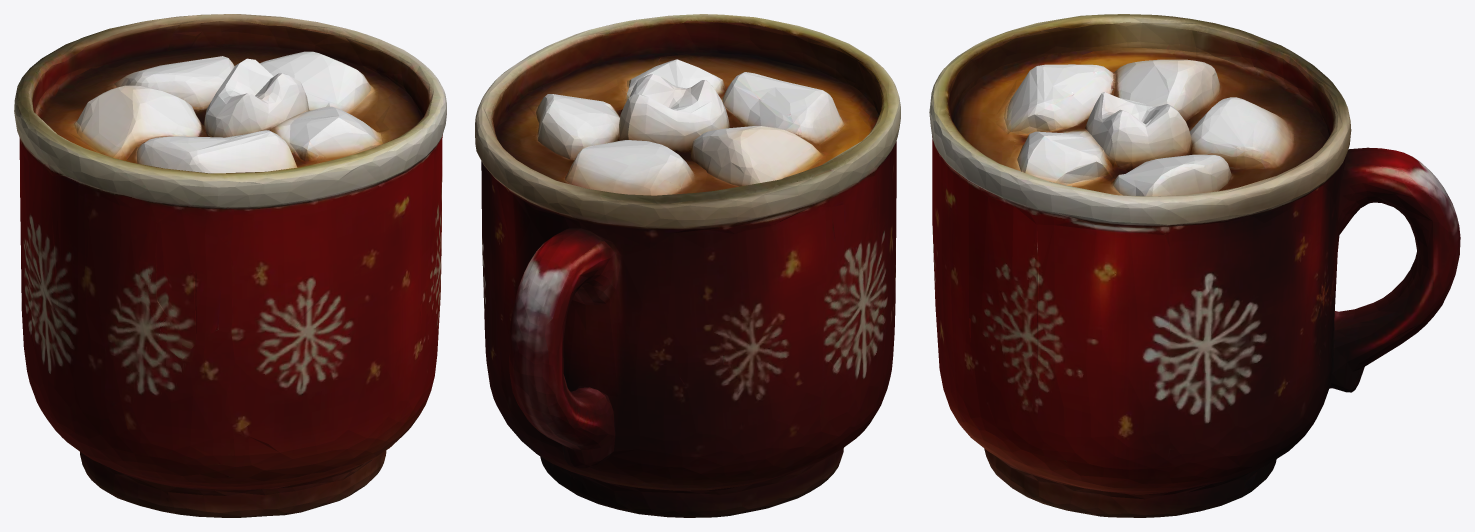
The picture shows the model from 3 angles, left to right: view 1: azimuth 30°, elevation 25°; view 2: azimuth 150°, elevation 25°; view 3: azimuth 270°, elevation 25°; orthographic projection. The views are drawn at different scales.
Parts seen in each view (by area): view 1: world; view 2: world; view 3: world.
Part boxes in pixels (x1=…): world: x1=14, y1=14, x2=446, y2=517; world: x1=475, y1=14, x2=900, y2=517; world: x1=929, y1=14, x2=1460, y2=517.
Bounding box in the file's own units: 0.7918 × 0.7636 × 0.9998.
1 material, 1 textured.
